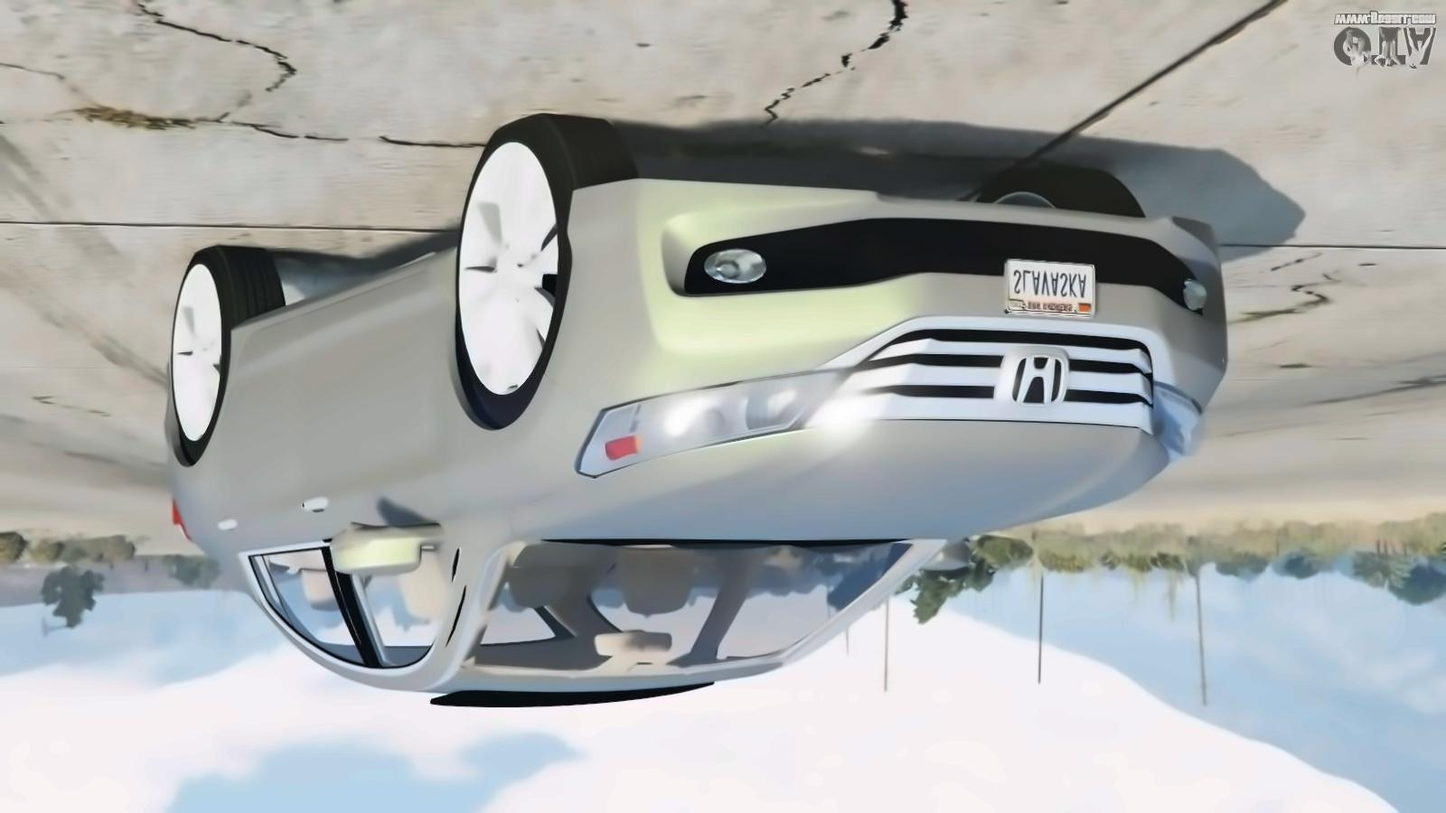Car hood: (548, 423, 1174, 552)
Fender - -F-L-: (420, 185, 593, 632)
Fender - -R-L-: (167, 289, 255, 625)
Front bumper: (559, 167, 1239, 413)
Headlight - -L-: (576, 368, 850, 474)
Headlight - -R-: (1145, 373, 1205, 469)
Passenger-s door - -F-L-: (290, 209, 482, 719)
Passenger-s door - -R-L-: (207, 257, 393, 693)
Side bumper - -L-: (225, 212, 473, 388)
Side mirror - -L-: (330, 514, 440, 580)
